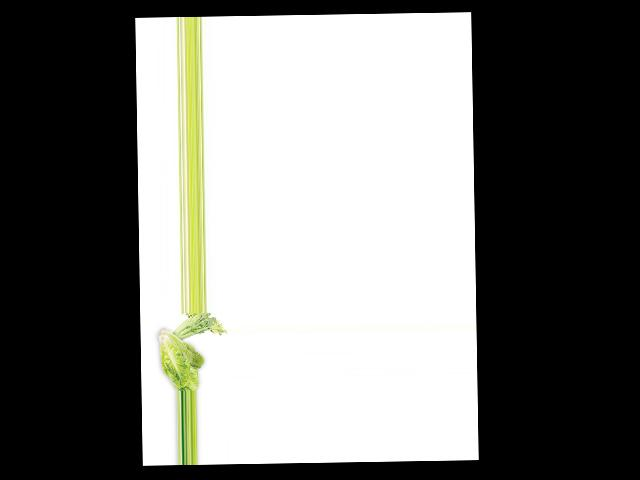lettuce: (159, 324, 210, 391)
